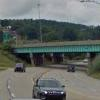Bridge: (11, 33, 99, 67)
